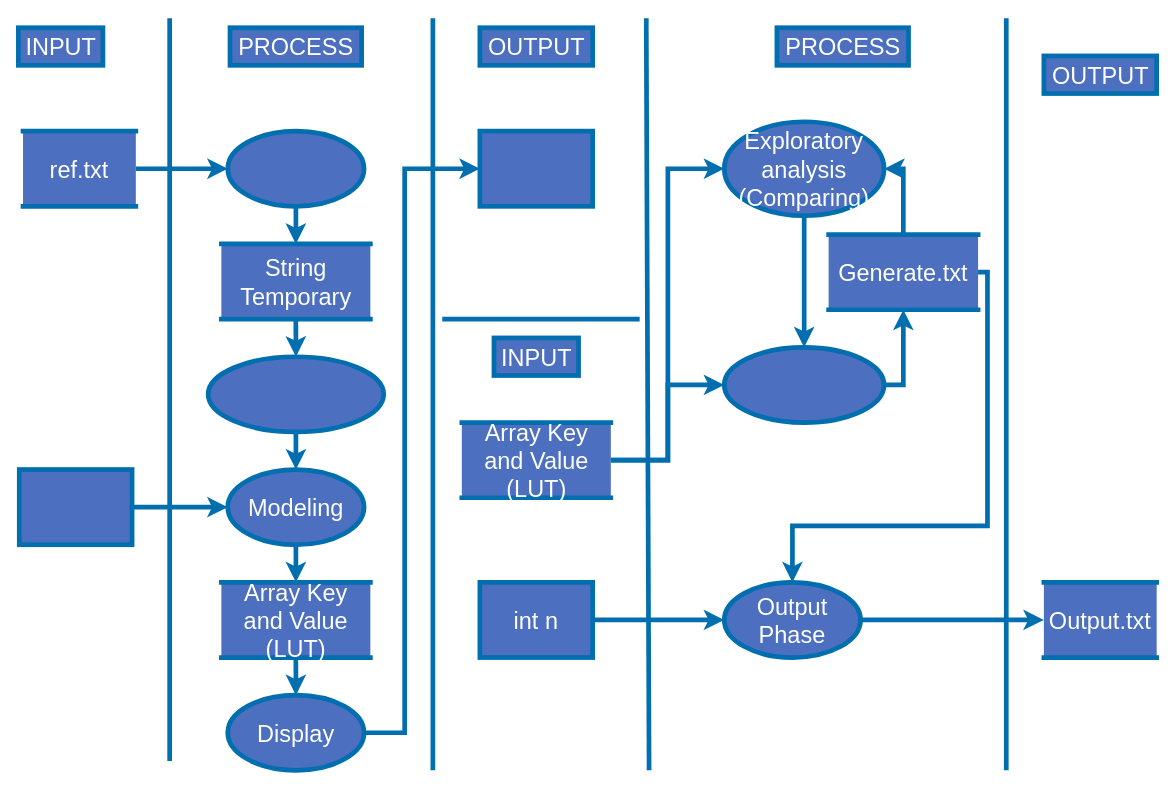
Some shapes in this 1175 by 790 pixel diagram are drawn without their labels. Here are the shapes that lost their labels. From the top down, the box of each, then its label:
(225, 128, 366, 208): Preparing Reference
(477, 128, 595, 208): Key and Value
(205, 354, 386, 434): Tokenization & Filtering
(721, 345, 886, 424): Prediction
(16, 467, 134, 547): int N-Gram
